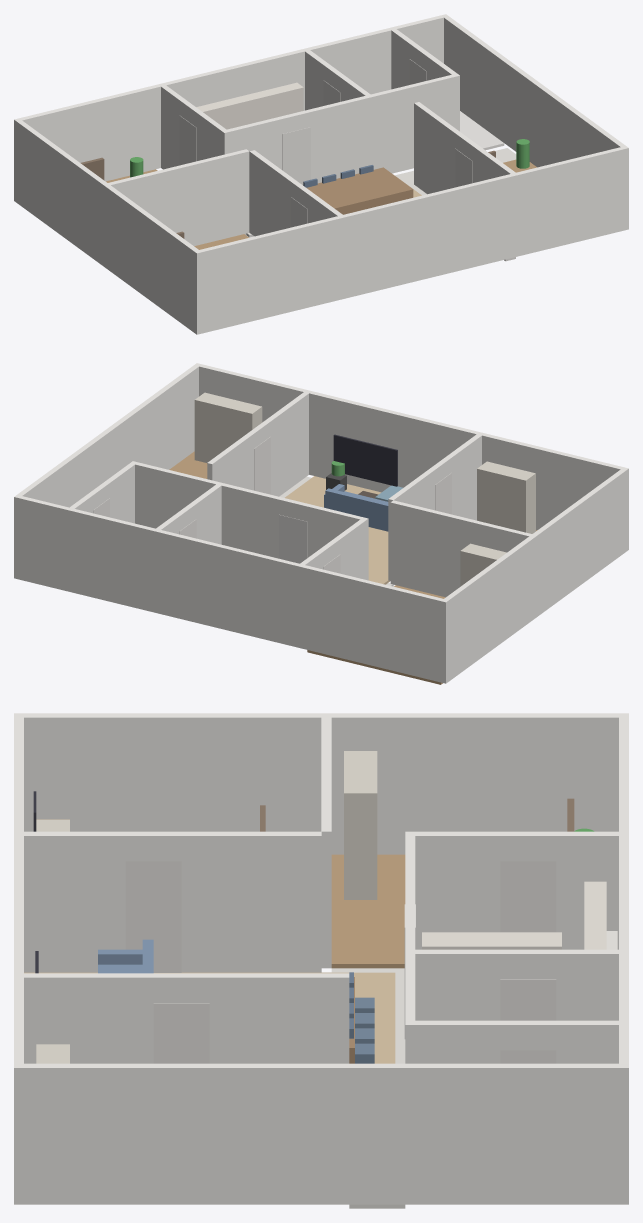
File: lumina_apartamento.glb
The picture shows the model from 3 angles, top to bottom: view 1: azimuth 30°, elevation 25°; view 2: azimuth 150°, elevation 25°; view 3: azimuth 270°, elevation 25°; orthographic projection. The views are drawn at different scales.
Visible parts, largest first — view 1: Wall_S, Wall_N, Wall_W, Wall_H_coz, Wall_E, Wall_H12, Wall_V2, Wall_V1_bot, Wall_V1_top, DineTable, Cab_N2, Wall_Bath (+5 smaller); view 2: Wall_N, Wall_S, Wall_W, Wall_E, Wall_H_coz, Wall_H12, Wall_V2, Wall_V1_bot, Q2_wardrobe, Q3_wardrobe, Wall_V1_top, Wall_Bath (+10 smaller); view 3: Wall_E, Wall_W, Wall_V1_bot, Wall_V2, Wall_V1_top, Wall_Coz_B, Wall_Bath, Floor_Q1, DoorF_Q2, Q1_wardrobe, Wall_N, Wall_S (+12 smaller).
Part boxes in pixels (<box>): Wall_S: <box>194,146,628,334</box>; Wall_N: <box>14,14,448,202</box>; Wall_W: <box>14,118,201,334</box>; Wall_H_coz: <box>227,74,454,183</box>; Wall_E: <box>444,14,628,230</box>; Wall_H12: <box>108,149,249,246</box>; Wall_V2: <box>414,102,518,255</box>; Wall_V1_bot: <box>249,150,345,298</box>; Wall_V1_top: <box>159,83,229,169</box>; DineTable: <box>306,167,413,214</box>; Cab_N2: <box>196,82,303,129</box>; Wall_Bath: <box>391,28,459,131</box>; Wall_N: <box>14,496,448,683</box>; Wall_S: <box>195,363,628,548</box>; Wall_W: <box>441,468,628,683</box>; Wall_E: <box>14,363,199,579</box>; Wall_H_coz: <box>135,462,362,558</box>; Wall_H12: <box>390,500,531,597</box>; Wall_V2: <box>207,390,309,496</box>; Wall_V1_bot: <box>388,434,482,580</box>; Q2_wardrobe: <box>477,461,535,533</box>; Q3_wardrobe: <box>194,392,262,462</box>; Wall_V1_top: <box>297,517,368,647</box>; Wall_Bath: <box>66,461,137,592</box>; Wall_E: <box>14,1063,628,1204</box>; Wall_W: <box>14,713,628,854</box>; Wall_V1_bot: <box>14,831,321,972</box>; Wall_V2: <box>14,973,349,1063</box>; Wall_V1_top: <box>405,831,628,949</box>; Wall_Coz_B: <box>410,949,627,1020</box>; Wall_Bath: <box>405,1020,628,1063</box>; Floor_Q1: <box>331,854,405,968</box>; DoorF_Q2: <box>125,861,181,972</box>; Q1_wardrobe: <box>344,751,377,899</box>; Wall_N: <box>619,713,628,1204</box>; Wall_S: <box>14,713,23,1204</box>.
Bounding box in the file's own units: 15 × 2.86 × 11.
